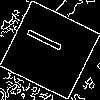I: (25, 25, 72, 59)
